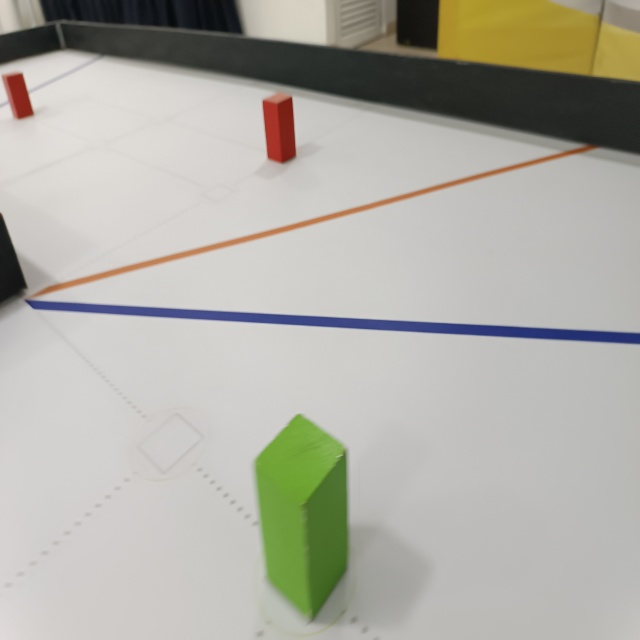blue line: (21, 298, 640, 344)
green rectangular prism: (255, 405, 352, 627)
orange line: (31, 146, 596, 295)
red rectangular prism: (262, 93, 298, 164), (0, 69, 35, 121)
